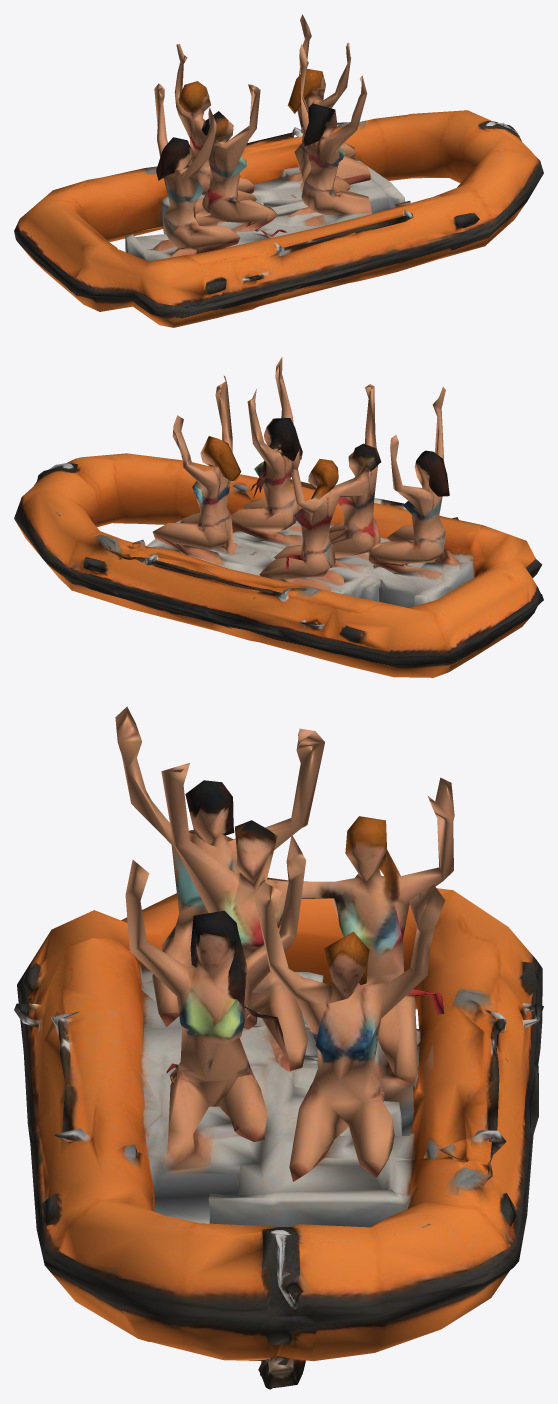
Rendered from bote.glb.
3 renders of one model, top to bottom at view 1: azimuth 30°, elevation 25°; view 2: azimuth 150°, elevation 25°; view 3: azimuth 270°, elevation 25°, orthographic. The views are drawn at different scales.
Visible parts, largest first — view 1: bote; view 2: bote; view 3: bote.
Part boxes in pixels (x1,y1,x2,y2): bote: (14, 14, 543, 327); bote: (14, 357, 543, 677); bote: (14, 706, 543, 1389).
Bounding box in the file's own units: 0.9959 × 0.4428 × 0.5233.
1 material, 1 textured.
